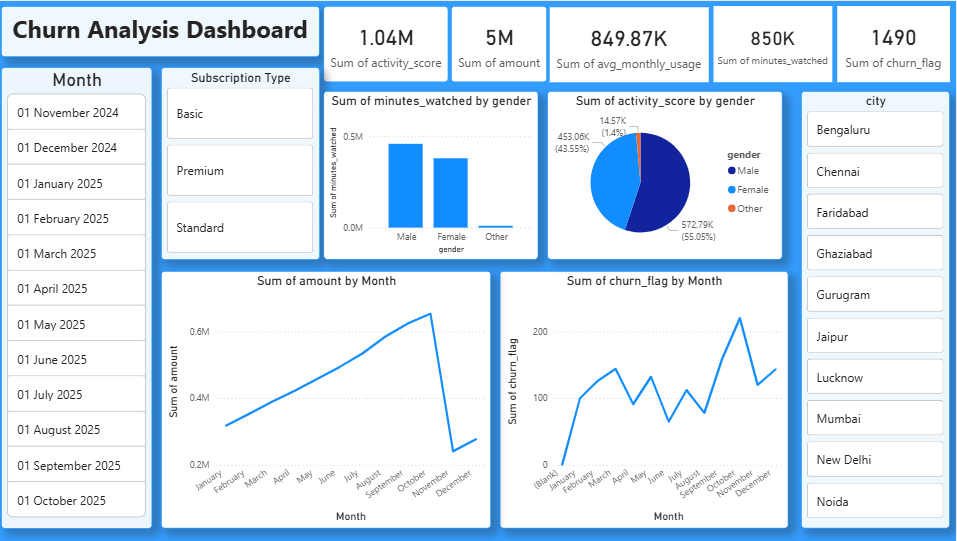

This screenshot's page, from the dashboard's own definition file:
{"tool":"powerbi","page":{"name":"Page 1","canvas":[1280,720],"ordinal":0},"visuals":[{"type":"textbox","box":[6.7,6.7,425,68.3],"z":0},{"type":"card","fields":{"Values":["Sum(analytic_table_for_powerbi.activity_score)"]},"box":[436.7,6.7,166.7,101.7],"z":1000},{"type":"card","fields":{"Values":["Sum(analytic_table_for_powerbi.amount)"]},"box":[606.7,6.7,128.3,101.7],"z":2000},{"type":"advancedSlicerVisual","title":"Month","fields":{"Values":["analytic_table_for_powerbi.month"]},"box":[6.7,88.3,201.7,615],"z":3000},{"type":"advancedSlicerVisual","title":"Subscription Type","fields":{"Values":["analytic_table_for_powerbi.subscription_type"]},"box":[220,88.3,211.7,256.7],"z":4000},{"type":"card","fields":{"Values":["Sum(analytic_table_for_powerbi.avg_monthly_usage)"]},"box":[738.3,8.3,211.7,100],"z":5000},{"type":"card","fields":{"Values":["Sum(analytic_table_for_powerbi.churn_flag)"]},"box":[1121.7,6.7,150,101.7],"z":6000},{"type":"card","fields":{"Values":["Sum(analytic_table_for_powerbi.minutes_watched)"]},"box":[956.7,6.7,158.3,101.7],"z":7000},{"type":"columnChart","fields":{"Category":["analytic_table_for_powerbi.gender"],"Y":["Sum(analytic_table_for_powerbi.minutes_watched)"]},"box":[436.7,120,286.7,225],"z":8000},{"type":"lineChart","fields":{"Category":["analytic_table_for_powerbi.churn_date.Variation.Date Hierarchy.Month"],"Y":["Sum(analytic_table_for_powerbi.churn_flag)"]},"box":[671.7,360,385,343.3],"z":9000},{"type":"advancedSlicerVisual","fields":{"Values":["analytic_table_for_powerbi.city"]},"box":[1073.3,120,198.3,583.3],"z":10000},{"type":"pieChart","fields":{"Category":["analytic_table_for_powerbi.gender"],"Y":["Sum(analytic_table_for_powerbi.activity_score)"]},"box":[735,120,313.3,225],"z":11000},{"type":"lineChart","fields":{"Category":["analytic_table_for_powerbi.month.Variation.Date Hierarchy.Month"],"Y":["Sum(analytic_table_for_powerbi.amount)"]},"box":[220,360,440,343.3],"z":12000}]}

Visuals, with their boxes in screenshot pixels (x1, y1, x2, y2), scaled from the page's 1280x720 canvas onto the 957x541 screenshot:
textbox: {"x1": 5, "y1": 5, "x2": 323, "y2": 56}
card - Sum(analytic_table_for_powerbi.activity_score): {"x1": 327, "y1": 5, "x2": 451, "y2": 81}
card - Sum(analytic_table_for_powerbi.amount): {"x1": 454, "y1": 5, "x2": 550, "y2": 81}
"Month" advancedSlicerVisual: {"x1": 5, "y1": 66, "x2": 156, "y2": 528}
"Subscription Type" advancedSlicerVisual: {"x1": 164, "y1": 66, "x2": 323, "y2": 259}
card - Sum(analytic_table_for_powerbi.avg_monthly_usage): {"x1": 552, "y1": 6, "x2": 710, "y2": 81}
card - Sum(analytic_table_for_powerbi.churn_flag): {"x1": 839, "y1": 5, "x2": 951, "y2": 81}
card - Sum(analytic_table_for_powerbi.minutes_watched): {"x1": 715, "y1": 5, "x2": 834, "y2": 81}
columnChart - analytic_table_for_powerbi.gender x Sum(analytic_table_for_powerbi.minutes_watched): {"x1": 327, "y1": 90, "x2": 541, "y2": 259}
lineChart - analytic_table_for_powerbi.churn_date.Variation.Date Hierarchy.Month x Sum(analytic_table_for_powerbi.churn_flag): {"x1": 502, "y1": 270, "x2": 790, "y2": 528}
advancedSlicerVisual - analytic_table_for_powerbi.city: {"x1": 802, "y1": 90, "x2": 951, "y2": 528}
pieChart - analytic_table_for_powerbi.gender x Sum(analytic_table_for_powerbi.activity_score): {"x1": 550, "y1": 90, "x2": 784, "y2": 259}
lineChart - analytic_table_for_powerbi.month.Variation.Date Hierarchy.Month x Sum(analytic_table_for_powerbi.amount): {"x1": 164, "y1": 270, "x2": 493, "y2": 528}
